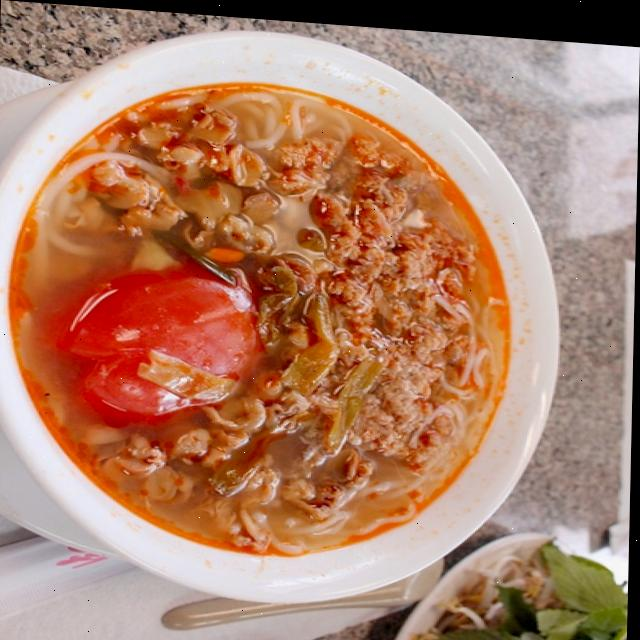面条主食: (0, 17, 556, 616)
